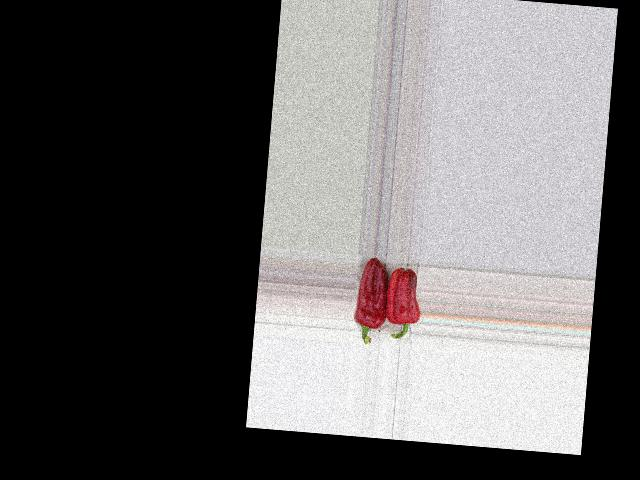bell_pepper: (352, 256, 391, 348)
